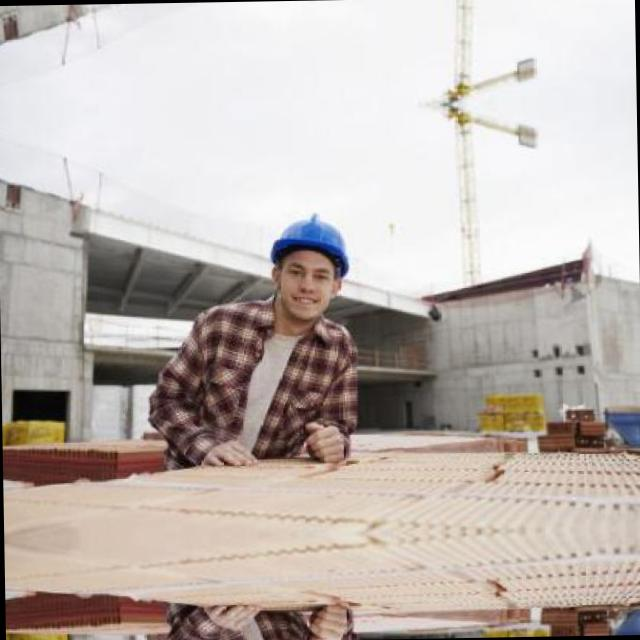helmet: (257, 198, 356, 328)
